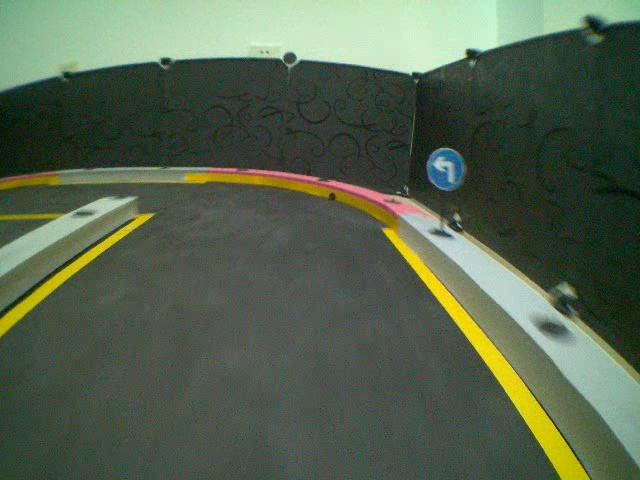turn: (424, 145, 469, 190)
